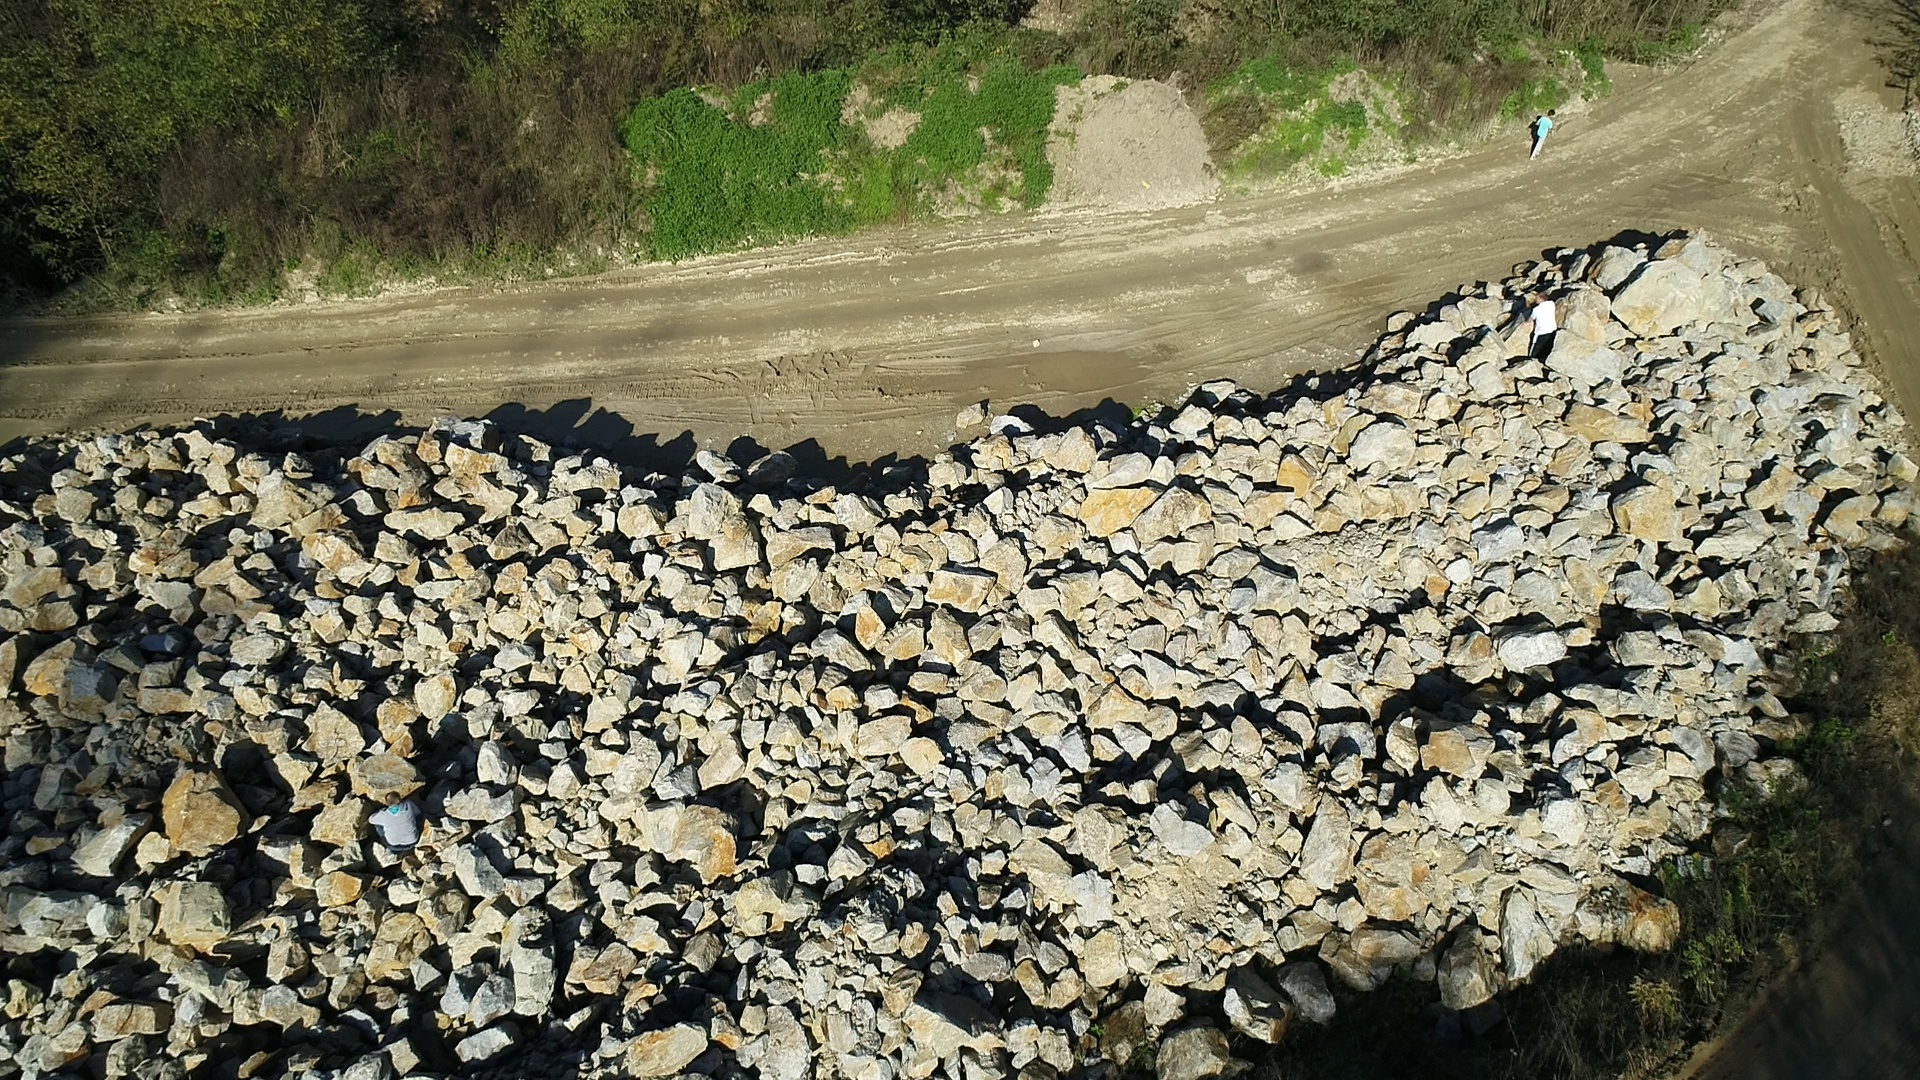person: (368, 790, 421, 853), (1527, 292, 1557, 363), (1527, 109, 1557, 160)
